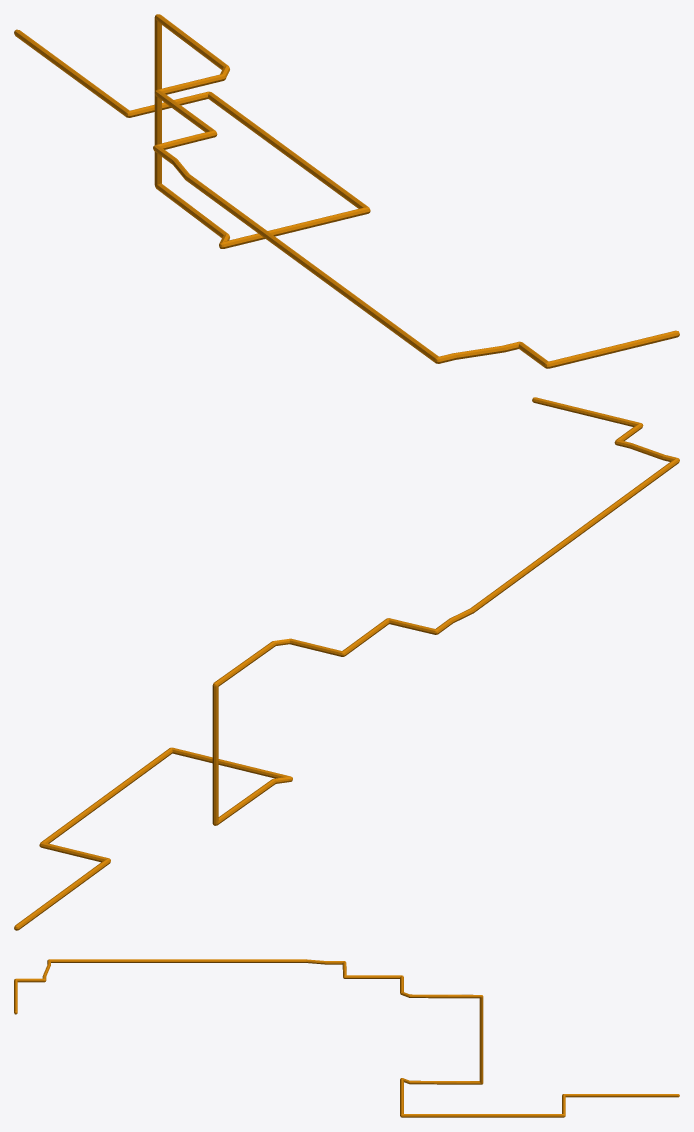
3 renders of one model, top to bottom at view 1: azimuth 30°, elevation 25°; view 2: azimuth 150°, elevation 25°; view 3: azimuth 270°, elevation 25°, orthographic. The views are drawn at different scales.
Bounding box in the file's own units: 869 × 520 × 3498.
